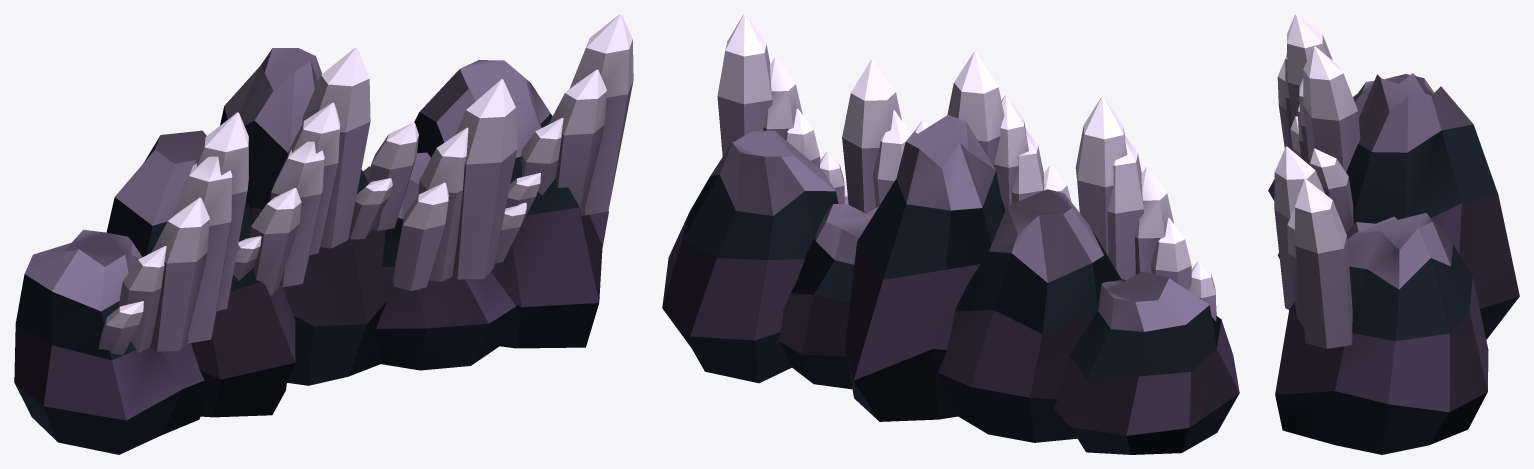
File: grotto-crystal-seam.glb
3 views of the same model, side by side, from view 1: azimuth 30°, elevation 25°; view 2: azimuth 150°, elevation 25°; view 3: azimuth 270°, elevation 25° (orthographic). The views are drawn at different scales.
Parts seen in each view (by area): view 1: grotto-crystal-seam; view 2: grotto-crystal-seam; view 3: grotto-crystal-seam.
Boxes of the visible parts, left/top/right/bottom form: grotto-crystal-seam: left=14, top=14, right=633, bottom=454; grotto-crystal-seam: left=662, top=14, right=1239, bottom=454; grotto-crystal-seam: left=1268, top=14, right=1519, bottom=454.
Bounding box in the file's own units: 10.61 × 5.74 × 4.45.
